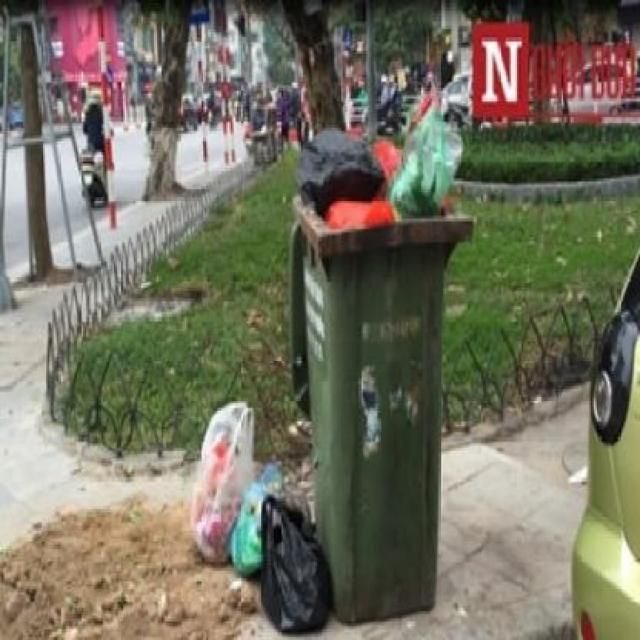plastic bag: (249, 454, 334, 637), (183, 389, 265, 571), (382, 86, 466, 254), (288, 110, 390, 218)
